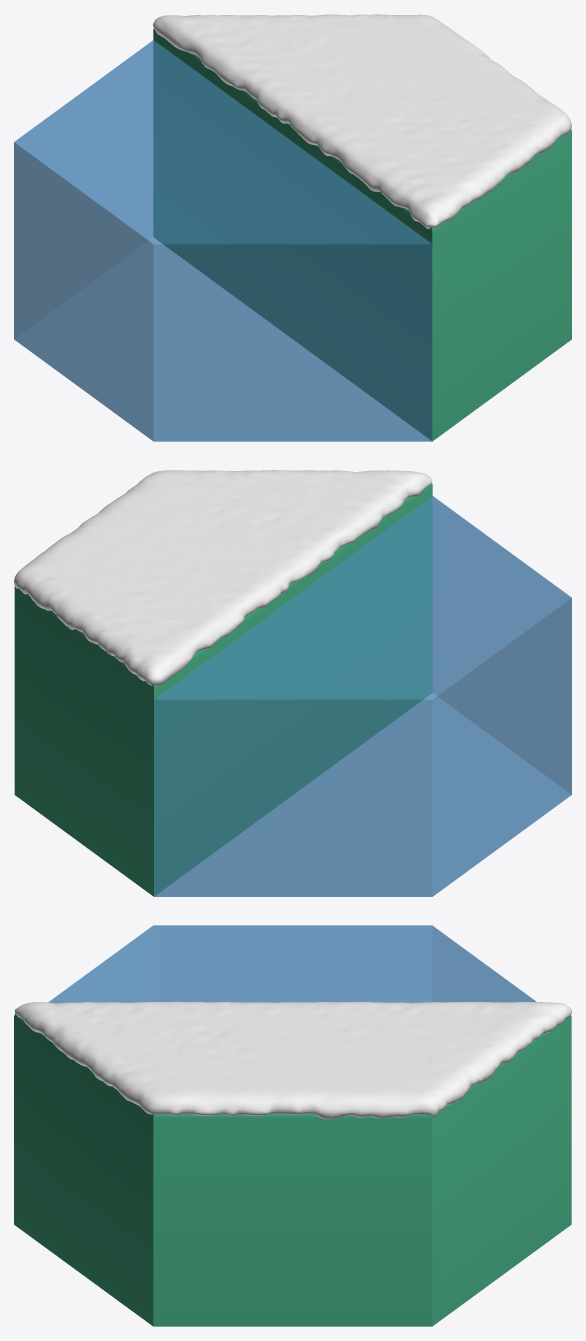
File: hex_forest_waterB.fbx
3 views of the same model, one above another, from view 1: azimuth 30°, elevation 25°; view 2: azimuth 150°, elevation 25°; view 3: azimuth 270°, elevation 25° (orthographic).
Parts seen in each view (by area): view 1: hex_forest_waterB, hex_forest_waterB.001, SnowBall.001; view 2: hex_forest_waterB, hex_forest_waterB.001, SnowBall.001; view 3: hex_forest_waterB.001, SnowBall.001, hex_forest_waterB.
Boxes of the visible parts, x1,y1,x2,y2 form: hex_forest_waterB: (14, 40, 432, 441); hex_forest_waterB.001: (153, 28, 571, 441); SnowBall.001: (153, 14, 571, 228); hex_forest_waterB: (154, 496, 571, 896); hex_forest_waterB.001: (14, 483, 432, 896); SnowBall.001: (14, 470, 432, 685); hex_forest_waterB.001: (14, 1013, 571, 1326); SnowBall.001: (14, 1001, 571, 1119); hex_forest_waterB: (48, 925, 536, 1003).
Size of the model in its own units: 202 by 104 by 231.
